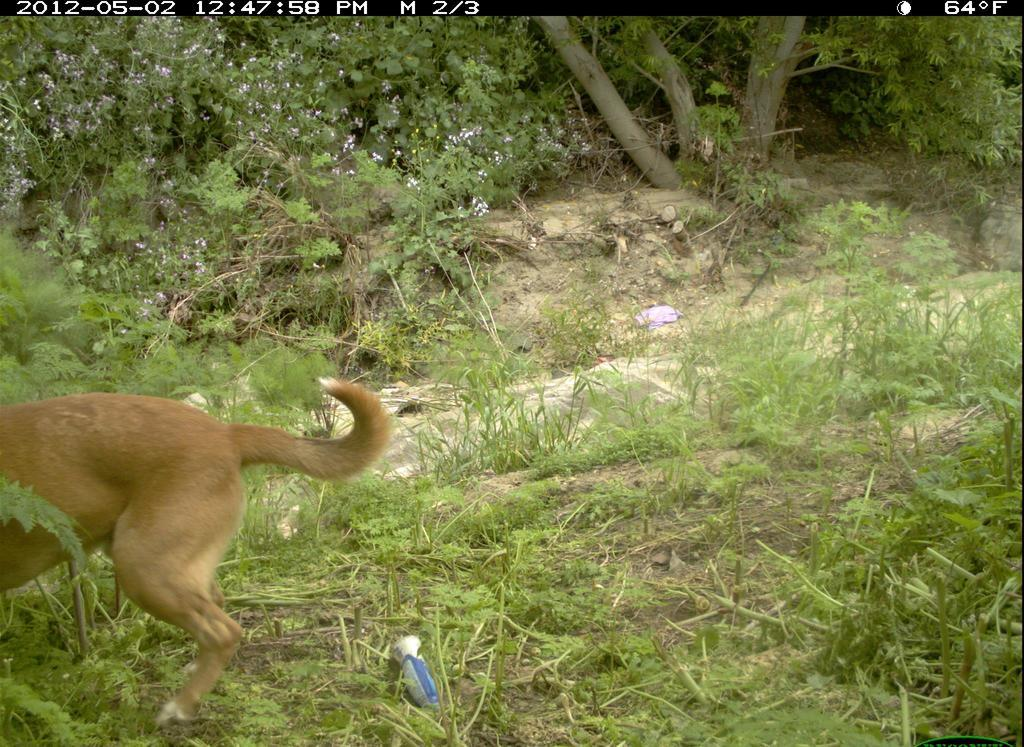dog: (3, 350, 408, 731)
